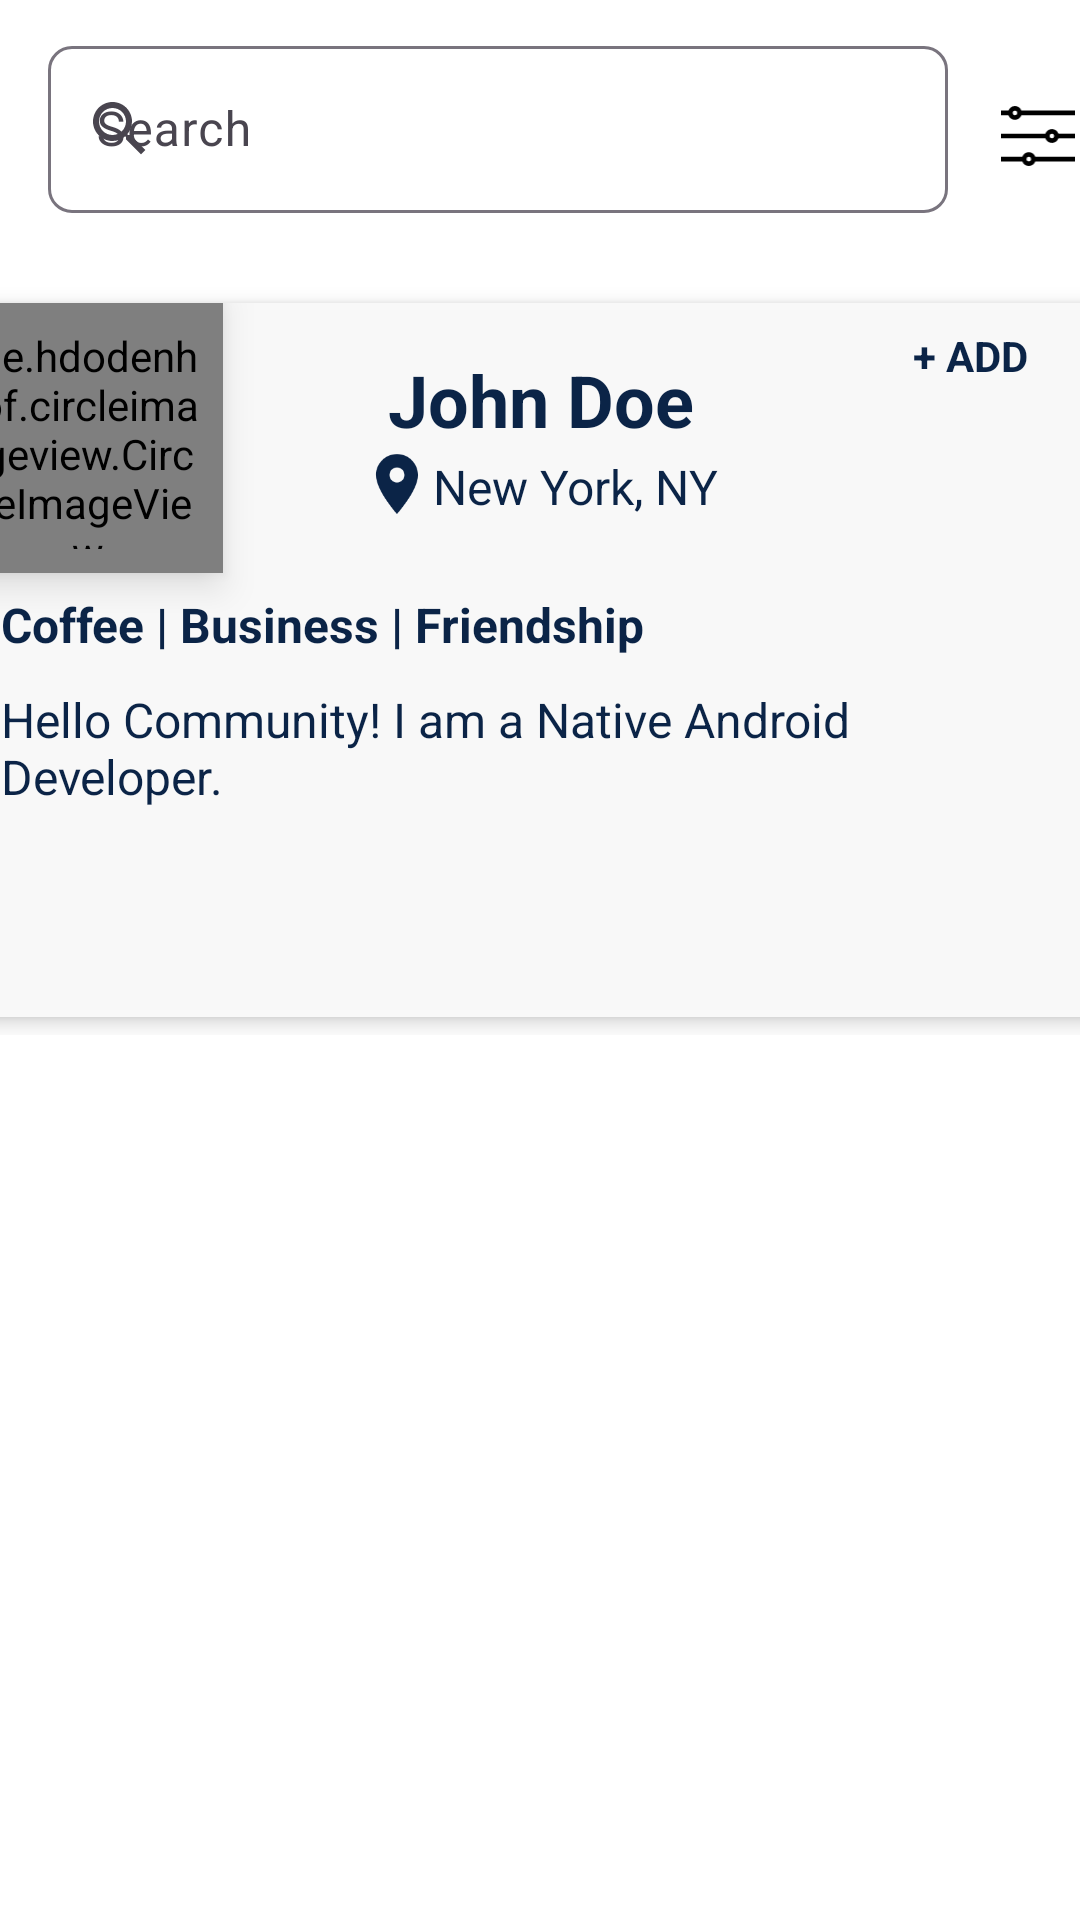

Icons on this 1080w x 1920h Android screen, each with the point to tap as point (x, y):
cusomize: point (1038, 136)
location on: point (397, 484)
